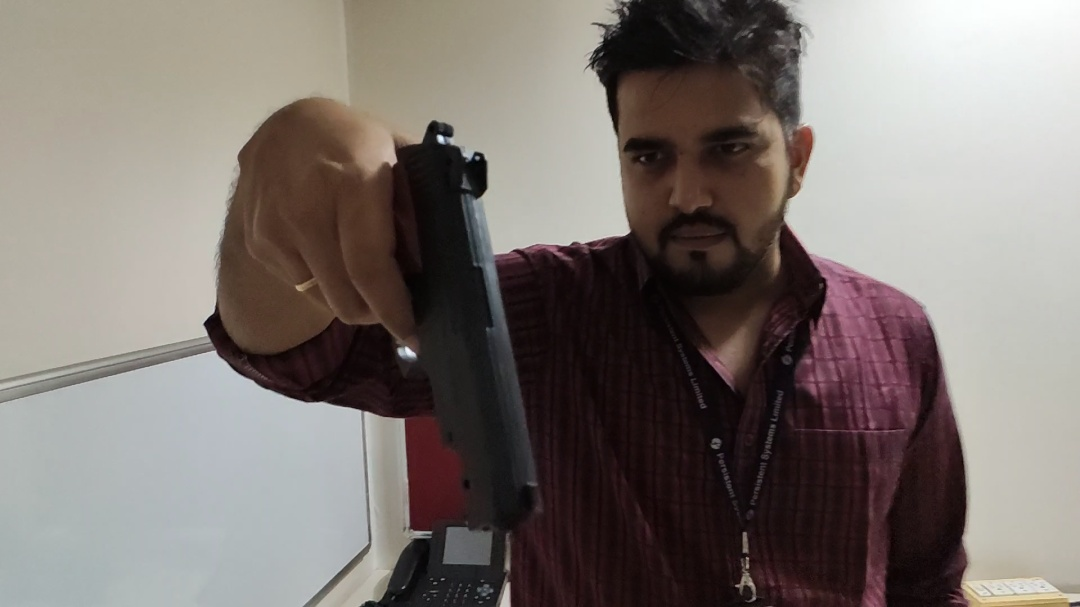gun: (336, 103, 571, 551)
